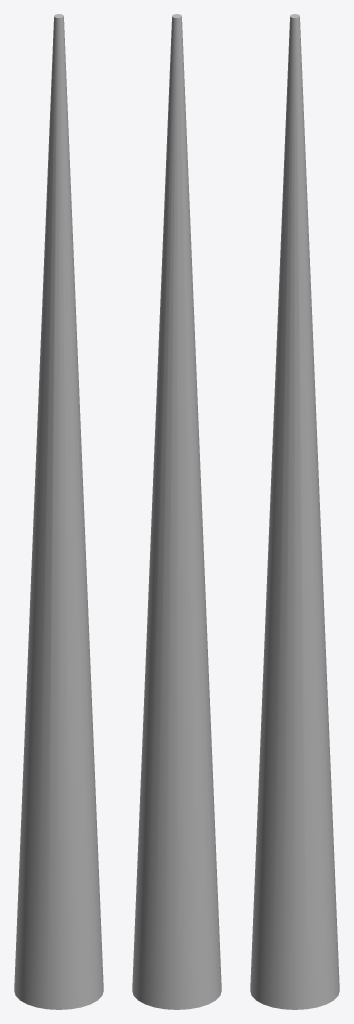
Rendered from bar.dae.
3 views of the same model, side by side, from view 1: azimuth 90°, elevation 25°; view 2: azimuth 150°, elevation 25°; view 3: azimuth 270°, elevation 25° (orthographic).
Parts seen in each view (by area): view 1: SketchUp; view 2: SketchUp; view 3: SketchUp.
Boxes of the visible parts, left/top/right/bottom form: SketchUp: left=14, top=14, right=103, bottom=1009; SketchUp: left=132, top=14, right=221, bottom=1009; SketchUp: left=250, top=14, right=339, bottom=1009.
Size of the model in its own units: 0.5 by 0.5 by 6.
1 material, 1 textured.
